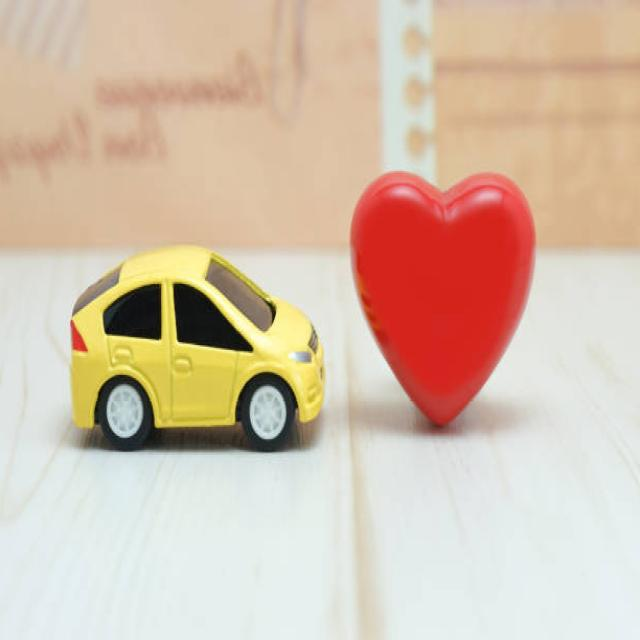Car: (70, 242, 326, 452)
